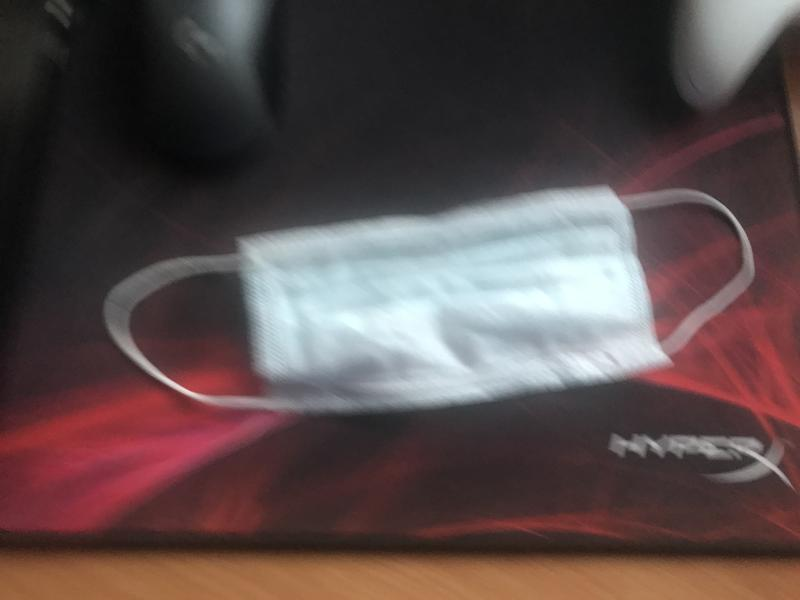medical_mask: (105, 185, 755, 413)
